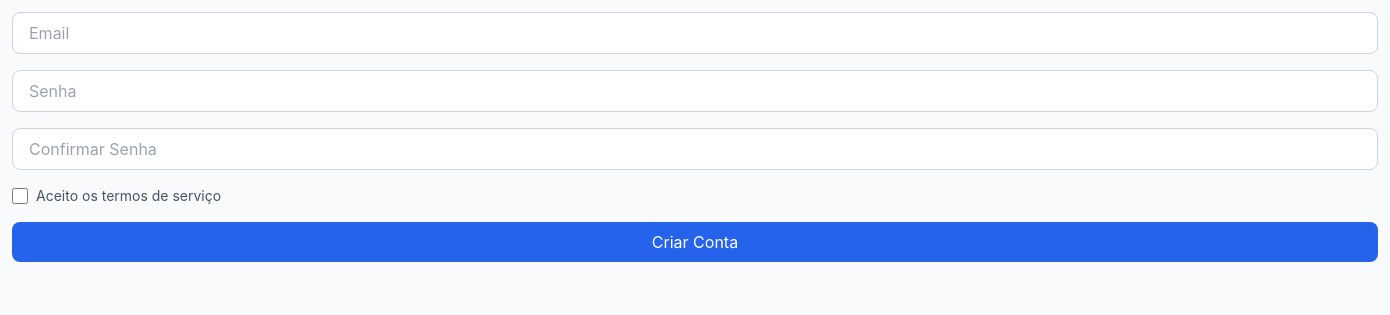
Test: Auth Integration Tests with Supabase › RegisterForm Integration › handles duplicate email error from Supabase
Type "existing@example.com" into the field with placeholder "Email" at (695, 33), box [12,12,1378,54]
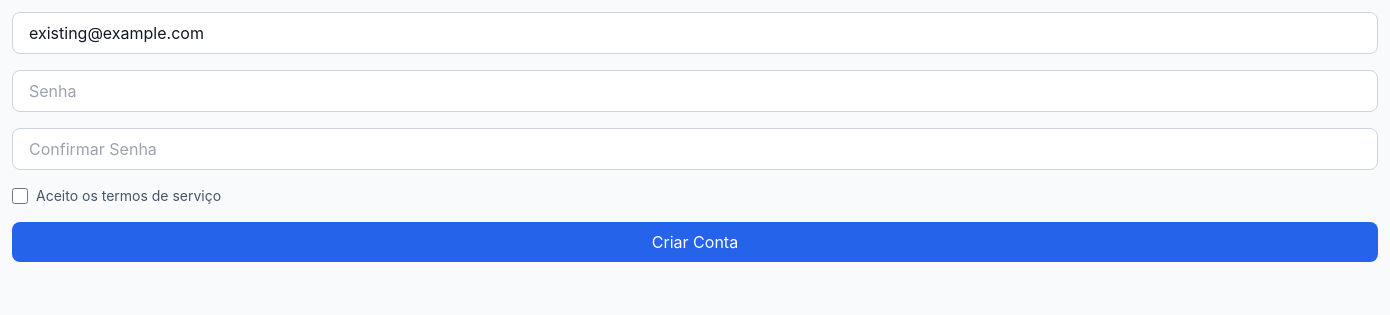
Type "password123" into the password field with placeholder "Senha" at (695, 91), box [12,70,1378,112]
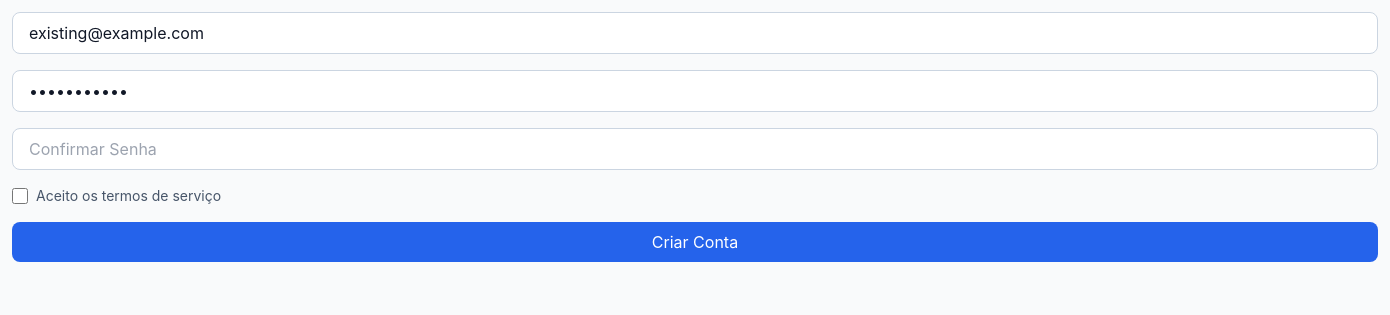
Type "password123" into the password field with placeholder "Confirmar Senha" at (695, 149), box [12,128,1378,170]
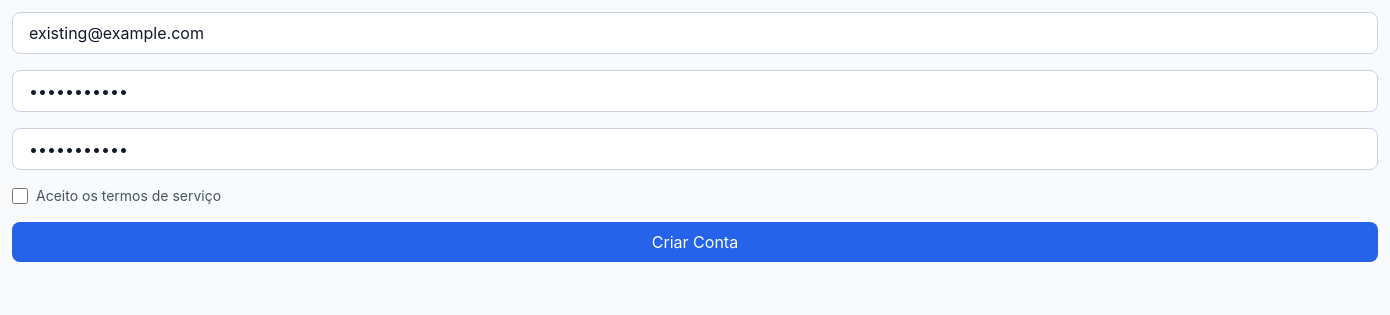
Click the checkbox at (20, 196), box [12,188,28,204]
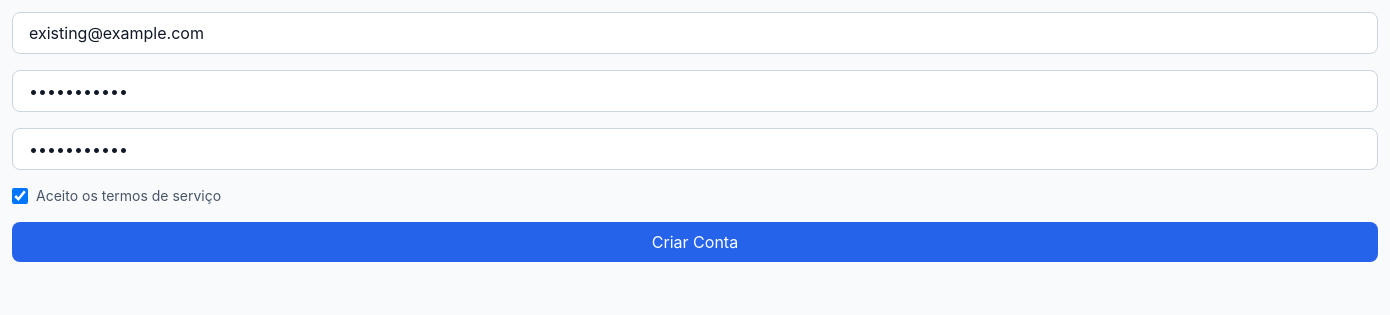
Click the button "Criar Conta" at (695, 242), box [12,222,1378,262]
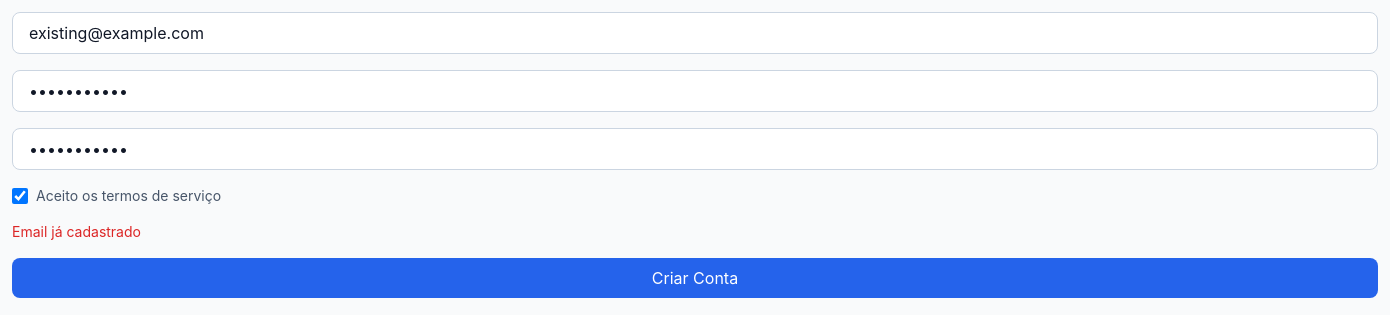
Expected: the text "Email já cadastrado" is shown, [12,223,141,240]
